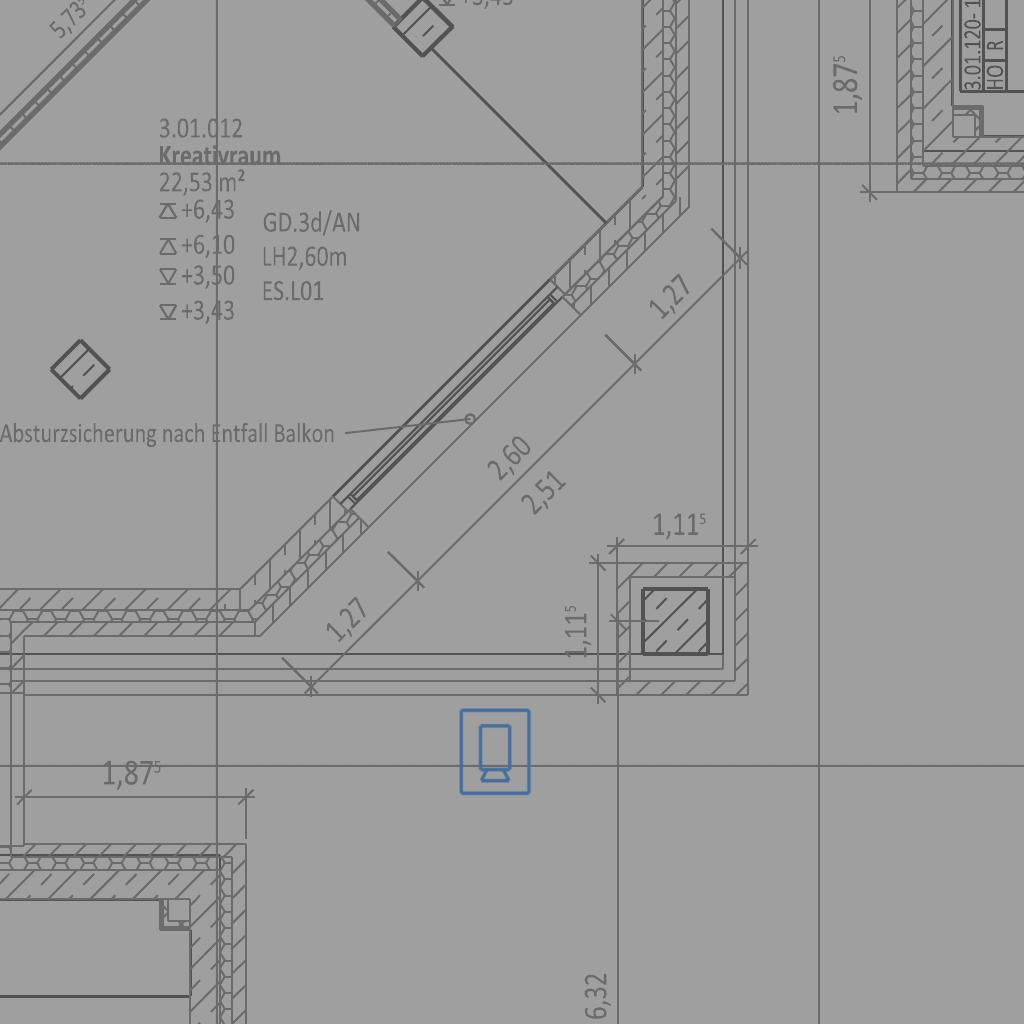KFO_Kamera_mit_Festobjektiv: (456, 706, 533, 797)
